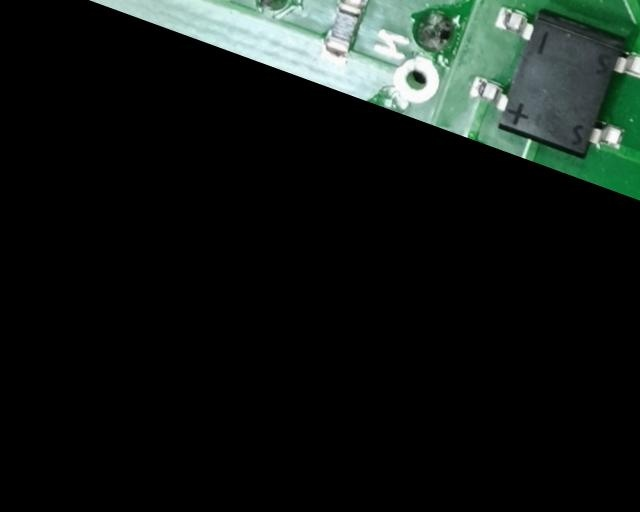chip-resistor: (312, 0, 372, 69)
ic: (454, 0, 640, 174)
